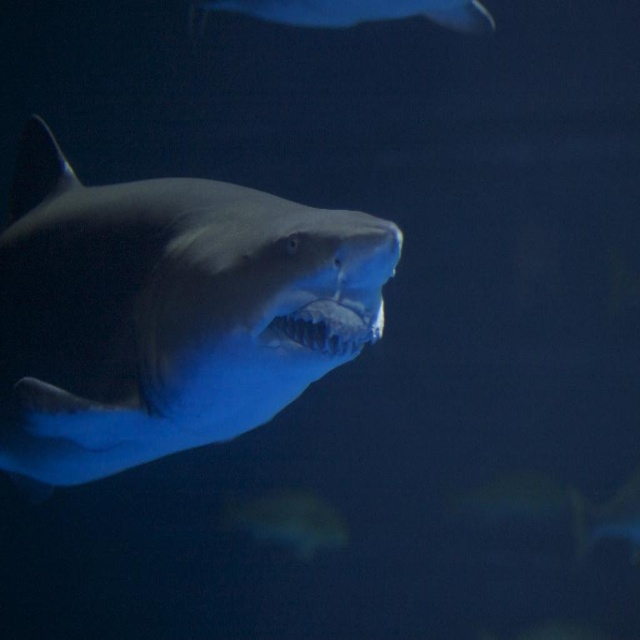Fish: (212, 486, 353, 563), (172, 0, 499, 32), (574, 469, 640, 565), (453, 474, 575, 522)
